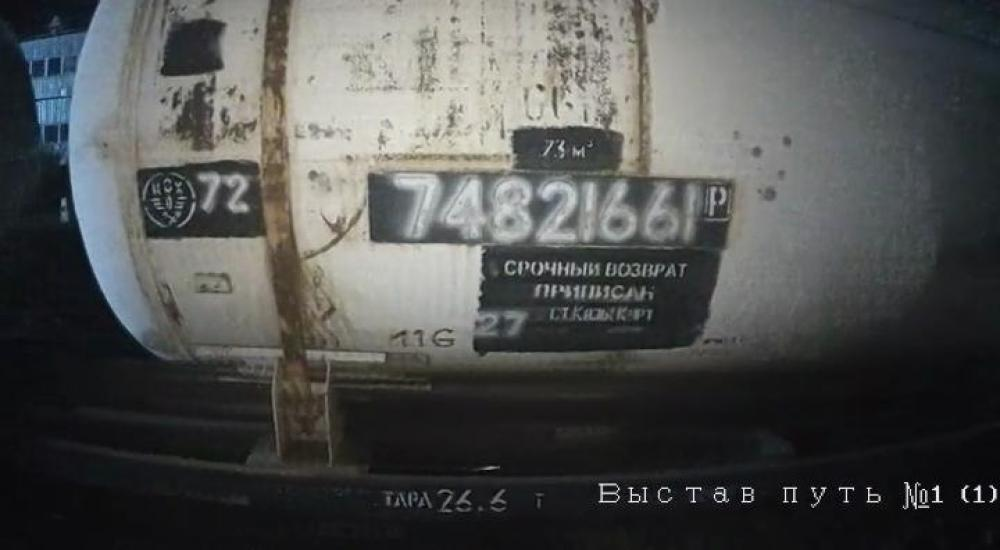Wagon-number: (388, 171, 704, 249)
